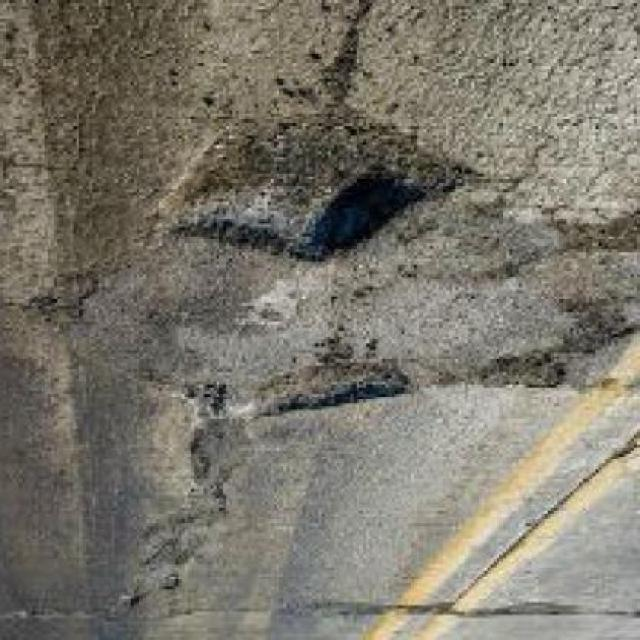pothole: (166, 98, 474, 272), (254, 353, 420, 425)
